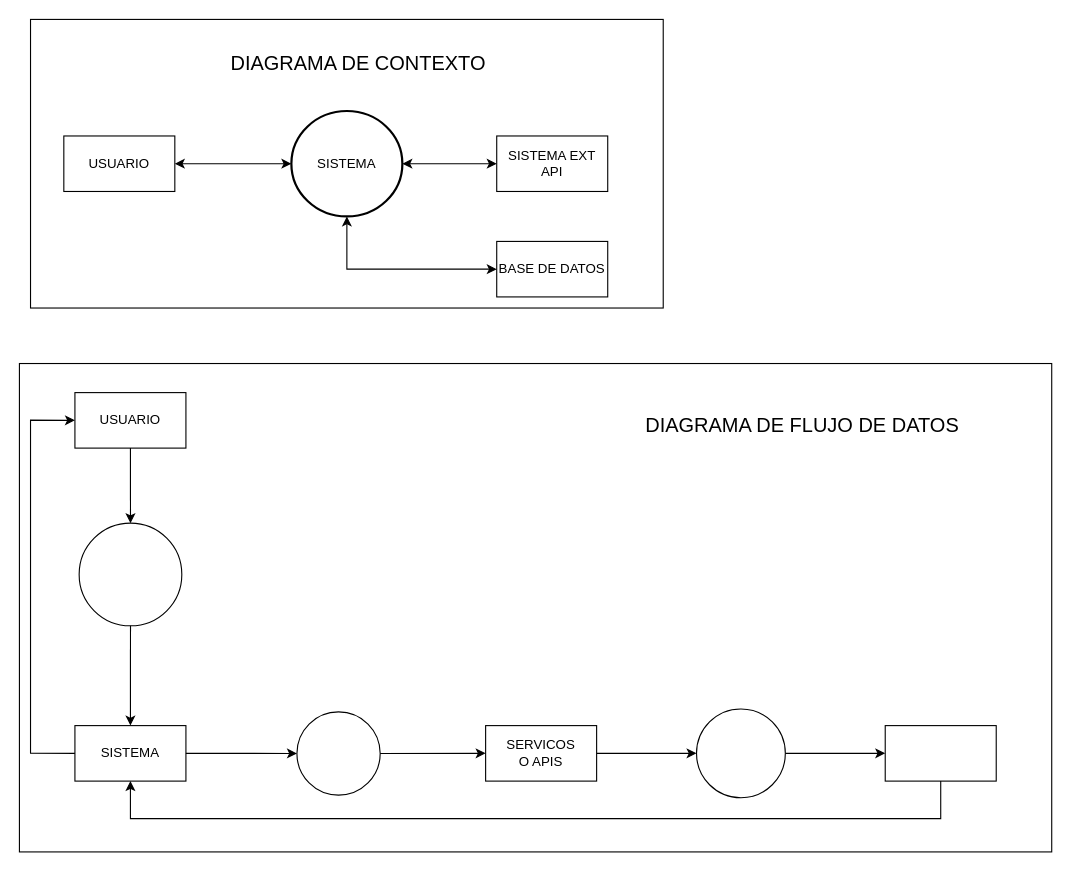
The diagram is 1071 pixels wide and 871 high, and some of its shapes have lost their labels. Here are the shapes that lost their labels. From the top down, the centre of each, then its label:
At point (130, 574): "CARGA A DOCUMENTO A SISTEMA".
At point (338, 753): "VERIFICA ARCHIVO".
At point (740, 753): "GENERA ESTADIS TICA".
At point (940, 752): "BASES DE DATOS".
